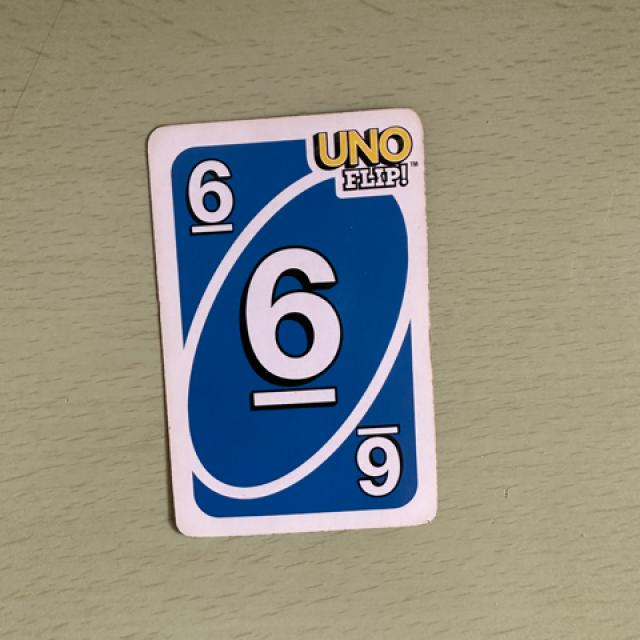lblue-6: (160, 136, 254, 266)
